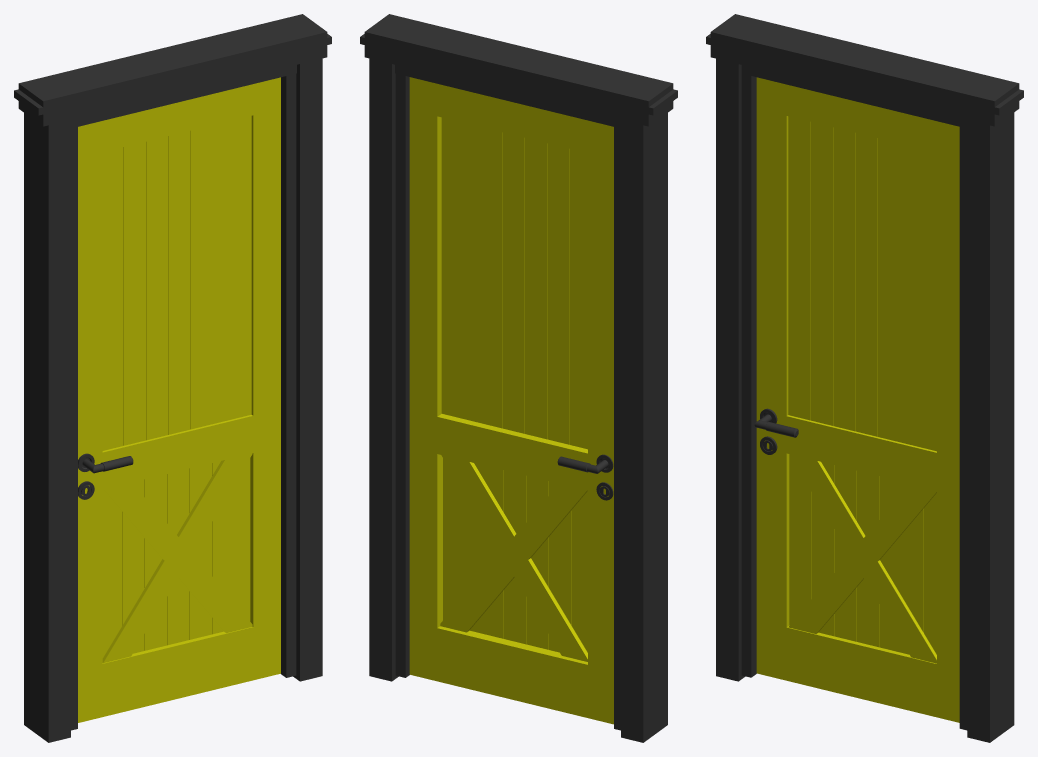
The model's file is door3.glb.
The picture shows the model from 3 angles, left to right: view 1: azimuth 30°, elevation 25°; view 2: azimuth 150°, elevation 25°; view 3: azimuth 330°, elevation 25°; orthographic projection.
Visible parts, largest first — view 1: Boole, Cube_3_4, Cube_1_4, Cube_2, Cube_1, Cube_3_3, Cube_4_2, Cube_2_3, Cube_1_3, Cube_3_2, Cube_5_2, Cube_2_4 (+11 smaller); view 2: Boole, Cube_3_4, Cube_1_4, Cube_2, Cube_1, Cube_3_3, Cube_5_2, Cube_3_2, Cube_1_3, Cube_2_3, Cube_4_2, Cube_2_4 (+11 smaller); view 3: Boole, Cube_1_4, Cube_2, Cube_3_4, Cube_1, Cube_3_3, Cube_1_3, Cube_5_2, Cube_3_2, Cube_2_3, Cube_2_4, Cube_4_2 (+11 smaller).
Boxes of the visible parts, x1=… form: Boole: x1=78, y1=77, x2=280, y2=722; Cube_3_4: x1=24, y1=113, x2=70, y2=742; Cube_1_4: x1=293, y1=55, x2=322, y2=681; Cube_2: x1=71, y1=65, x2=296, y2=730; Cube_1: x1=102, y1=453, x2=252, y2=663; Cube_3_3: x1=18, y1=14, x2=327, y2=108; Cube_4_2: x1=190, y1=125, x2=213, y2=429; Cube_2_3: x1=146, y1=136, x2=168, y2=440; Cube_1_3: x1=123, y1=141, x2=145, y2=445; Cube_3_2: x1=168, y1=130, x2=190, y2=434; Cube_5_2: x1=213, y1=119, x2=235, y2=423; Cube_2_4: x1=102, y1=147, x2=123, y2=450; Boole: x1=409, y1=77, x2=613, y2=724; Cube_3_4: x1=621, y1=113, x2=667, y2=742; Cube_1_4: x1=369, y1=57, x2=398, y2=681; Cube_2: x1=395, y1=65, x2=620, y2=730; Cube_1: x1=440, y1=455, x2=587, y2=661; Cube_3_3: x1=364, y1=14, x2=673, y2=107; Cube_5_2: x1=457, y1=121, x2=479, y2=422; Cube_3_2: x1=502, y1=132, x2=524, y2=433; Cube_1_3: x1=547, y1=143, x2=569, y2=444; Cube_2_3: x1=525, y1=138, x2=547, y2=439; Cube_4_2: x1=480, y1=127, x2=502, y2=428; Cube_2_4: x1=570, y1=149, x2=587, y2=449; Boole: x1=756, y1=77, x2=959, y2=722; Cube_1_4: x1=967, y1=112, x2=1014, y2=742; Cube_2: x1=741, y1=65, x2=967, y2=730; Cube_3_4: x1=716, y1=56, x2=745, y2=681; Cube_1: x1=788, y1=454, x2=936, y2=663; Cube_3_3: x1=710, y1=14, x2=1019, y2=108; Cube_1_3: x1=810, y1=122, x2=833, y2=425; Cube_5_2: x1=900, y1=143, x2=922, y2=447; Cube_3_2: x1=855, y1=133, x2=877, y2=436; Cube_2_3: x1=833, y1=127, x2=855, y2=431; Cube_2_4: x1=788, y1=116, x2=810, y2=420; Cube_4_2: x1=878, y1=138, x2=900, y2=442.
Bounding box in the file's own units: 0.9542 × 2 × 0.1825.
